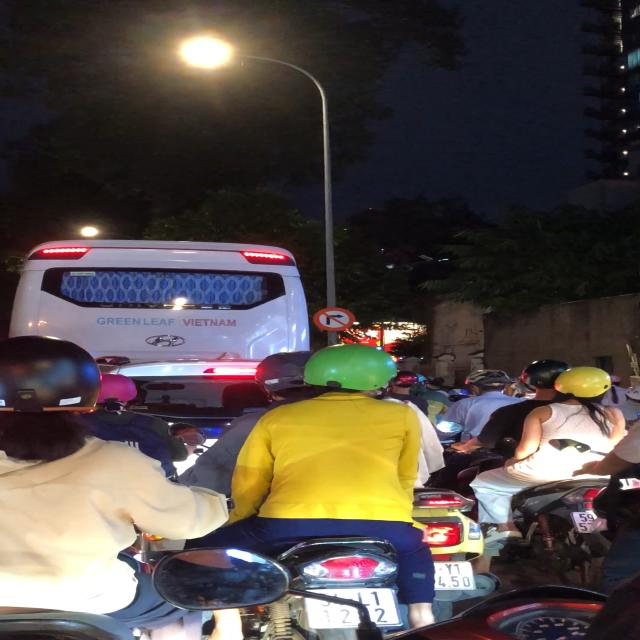Bien bao cam re phai: (310, 305, 360, 333)
